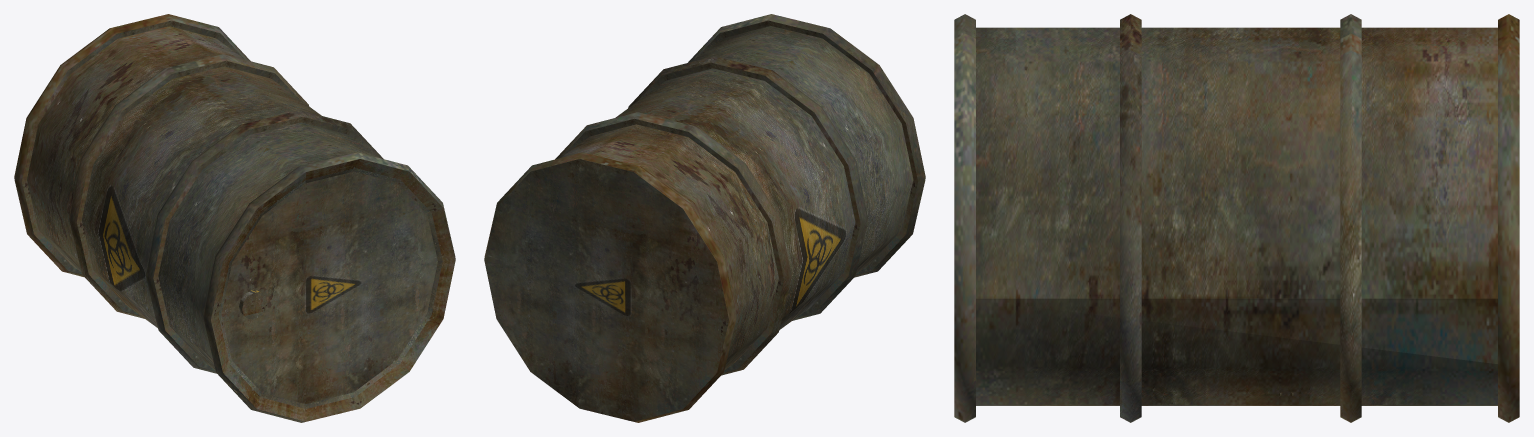
Rendered from barrel_4.fbx.
The picture shows the model from 3 angles, left to right: view 1: azimuth 30°, elevation 25°; view 2: azimuth 150°, elevation 25°; view 3: azimuth 270°, elevation 25°; orthographic projection. The views are drawn at different scales.
Parts seen in each view (by area): view 1: Cylinder01; view 2: Cylinder01; view 3: Cylinder01.
Boxes of the visible parts, x1,y1,x2,y2 form: Cylinder01: (14,14,455,422); Cylinder01: (484,14,925,422); Cylinder01: (954,14,1519,422).
Bounding box in the file's own units: 0.6768 × 0.6598 × 0.9146.
